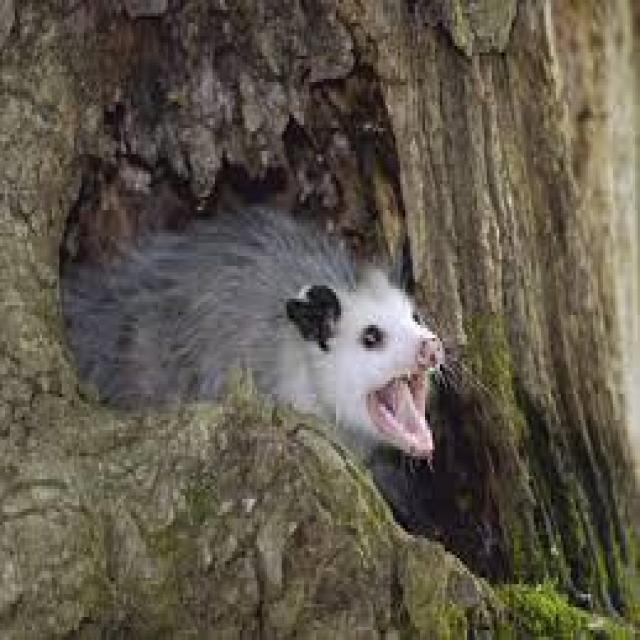Possum: (63, 200, 448, 484)
